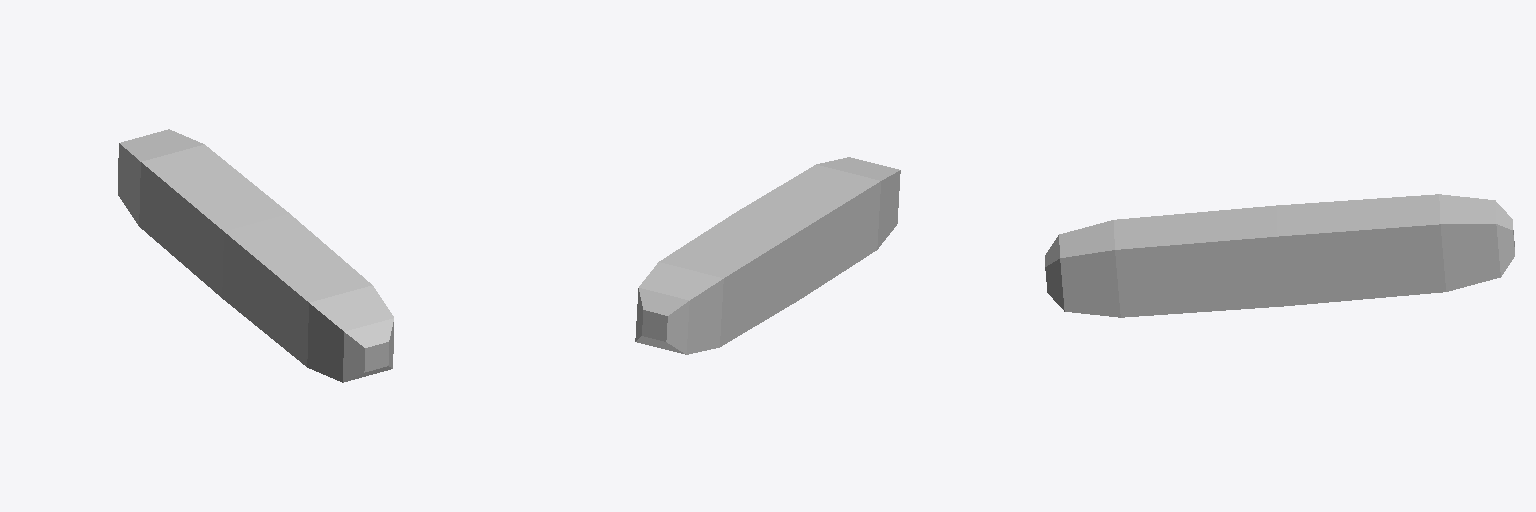
File: lower_right_leg_joint.obj
3 renders of one model, left to right at view 1: azimuth 30°, elevation 25°; view 2: azimuth 150°, elevation 25°; view 3: azimuth 270°, elevation 25°, orthographic.
Visible parts, largest first — view 1: ../rami/model/lower_right_leg_joint; view 2: ../rami/model/lower_right_leg_joint; view 3: ../rami/model/lower_right_leg_joint.
Part boxes in pixels (bbox=[...]): ../rami/model/lower_right_leg_joint: bbox=[118, 129, 393, 382]; ../rami/model/lower_right_leg_joint: bbox=[635, 157, 900, 354]; ../rami/model/lower_right_leg_joint: bbox=[1045, 194, 1514, 317].
Bounding box in the file's own units: 0.0831 × 0.1025 × 0.4777.